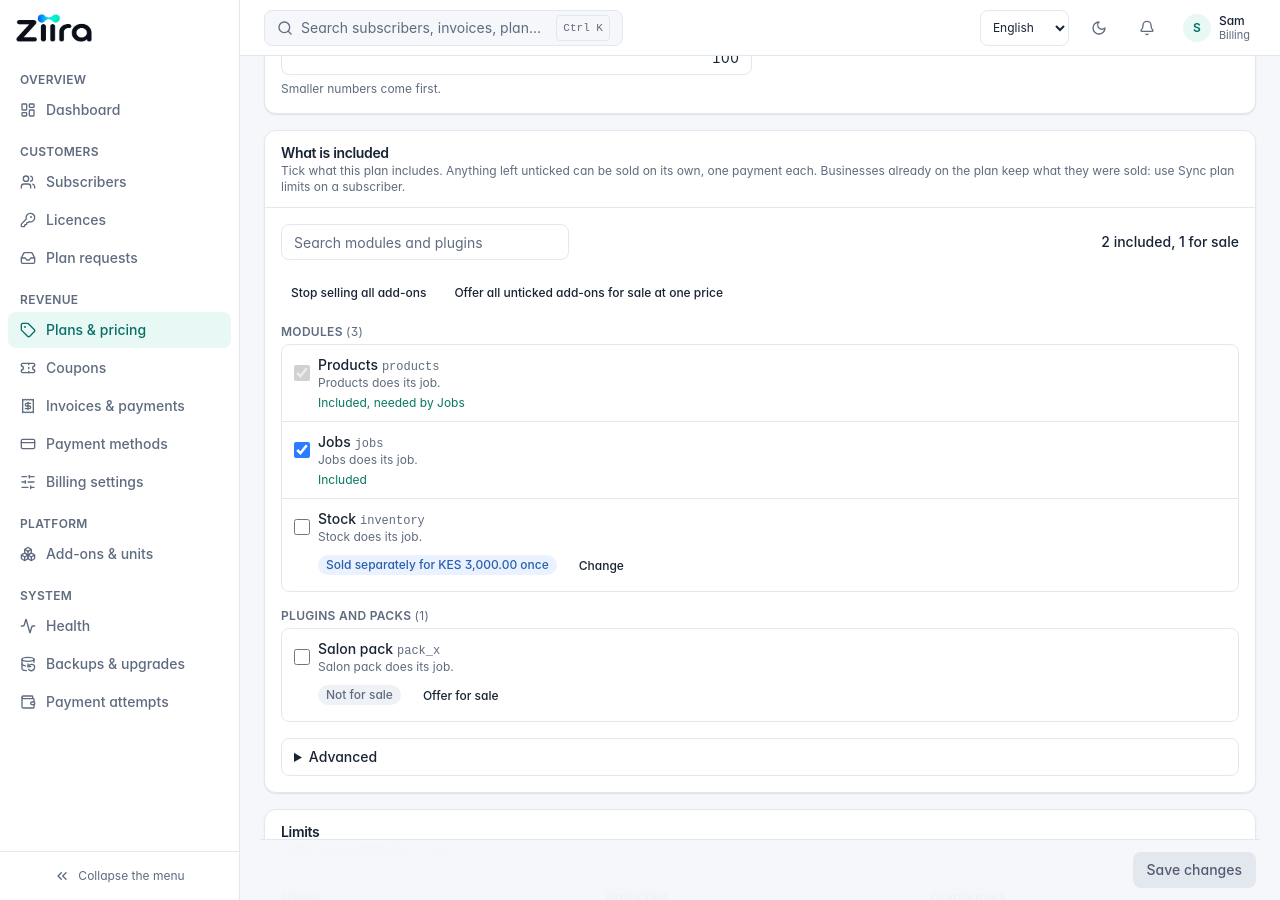
Test: the plan editor's one list of units › locks a unit another ticked unit needs, and explains why
The image size is (1280, 900).
(page scrolled)
Expected: the text "Stock" is shown, [318,510,356,527]
Expected: the checkbox labelled "Products products Products does its job." is disabled, [294,365,310,381]
Click the checkbox labelled "Jobs jobs Jobs does its job.": point(302, 450) [294,442,310,458]
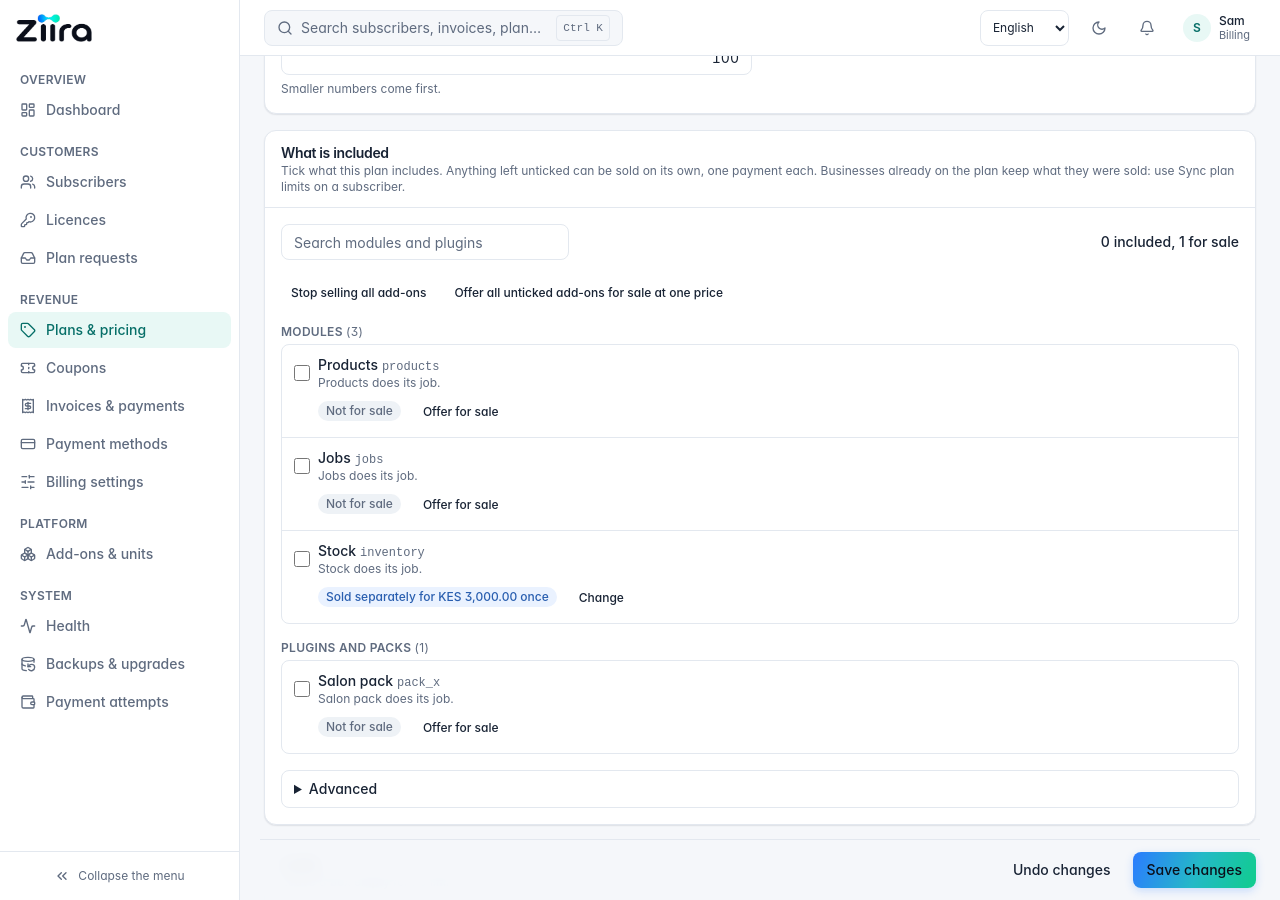
Expected: the checkbox labelled "Products products Products does its job." is enabled, [294,365,310,381]
